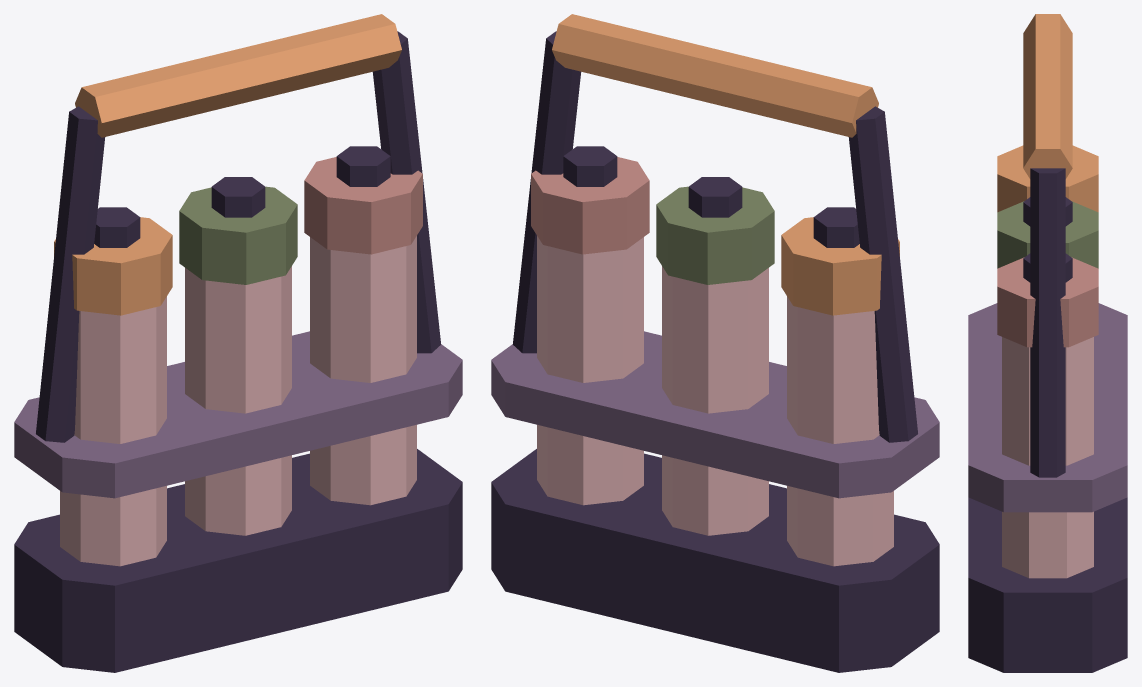
Rendered from sample_canisters.obj.
3 renders of one model, left to right at view 1: azimuth 30°, elevation 25°; view 2: azimuth 150°, elevation 25°; view 3: azimuth 270°, elevation 25°, orthographic. The views are drawn at different scales.
Parts seen in each view (by area): view 1: sample_canisters_deep_purple, sample_canisters_pale_pink, sample_canisters_mauve, sample_canisters_warm_orange, sample_canisters_muted_olive, sample_canisters_dusty_rose; view 2: sample_canisters_deep_purple, sample_canisters_pale_pink, sample_canisters_mauve, sample_canisters_warm_orange, sample_canisters_muted_olive, sample_canisters_dusty_rose; view 3: sample_canisters_deep_purple, sample_canisters_mauve, sample_canisters_pale_pink, sample_canisters_warm_orange, sample_canisters_dusty_rose, sample_canisters_muted_olive.
Part boxes in pixels (left/top/right/bottom): sample_canisters_deep_purple: left=14, top=31, right=462, bottom=672; sample_canisters_pale_pink: left=60, top=236, right=416, bottom=566; sample_canisters_mauve: left=14, top=331, right=462, bottom=498; sample_canisters_warm_orange: left=54, top=14, right=401, bottom=315; sample_canisters_muted_olive: left=179, top=186, right=297, bottom=284; sample_canisters_dusty_rose: left=304, top=157, right=422, bottom=254; sample_canisters_deep_purple: left=491, top=31, right=939, bottom=672; sample_canisters_pale_pink: left=537, top=236, right=893, bottom=566; sample_canisters_mauve: left=491, top=331, right=939, bottom=498; sample_canisters_warm_orange: left=552, top=14, right=899, bottom=315; sample_canisters_muted_olive: left=656, top=186, right=774, bottom=284; sample_canisters_dusty_rose: left=531, top=157, right=649, bottom=254; sample_canisters_deep_purple: left=968, top=168, right=1127, bottom=672; sample_canisters_mauve: left=968, top=303, right=1127, bottom=512; sample_canisters_pale_pink: left=1002, top=337, right=1093, bottom=578; sample_canisters_warm_orange: left=997, top=14, right=1098, bottom=212; sample_canisters_dusty_rose: left=997, top=257, right=1098, bottom=347; sample_canisters_muted_olive: left=997, top=201, right=1098, bottom=268.
Size of the model in its own units: 0.24 by 0.3121 by 0.09.
